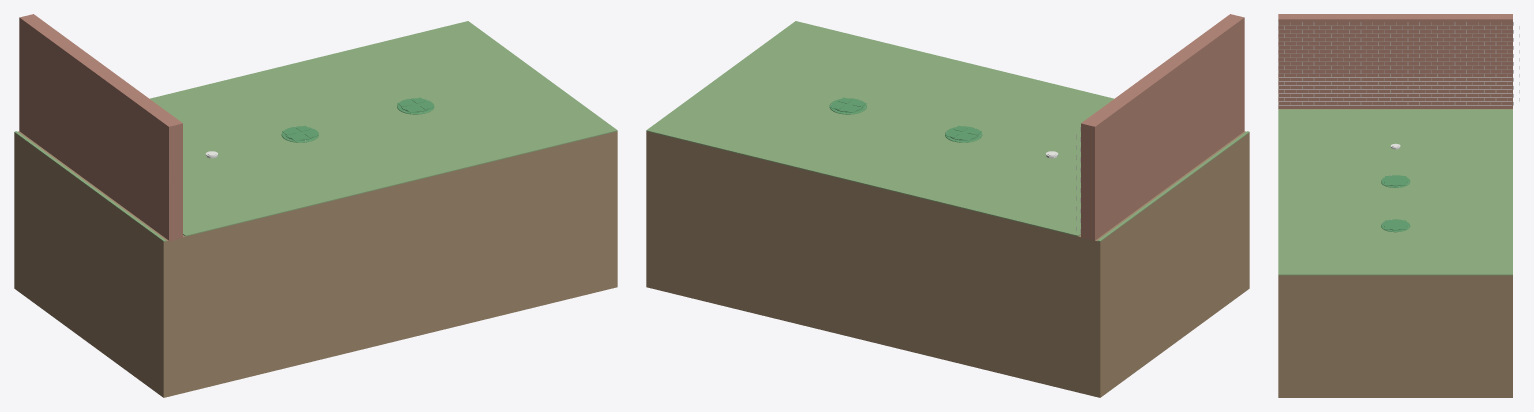
File: septic_tank_risers_slab.glb
3 renders of one model, left to right at view 1: azimuth 30°, elevation 25°; view 2: azimuth 150°, elevation 25°; view 3: azimuth 270°, elevation 25°, orthographic. The views are drawn at different scales.
Parts seen in each view (by area): view 1: soil, grass, house_wall, soil_section, grass_section; view 2: soil, grass, house_wall, soil_section, grass_section; view 3: grass, soil, house_wall, soil_section, grass_section, lid_outlet, lid_inlet.
Part boxes in pixels (box(x1,y1,x2,y2)): soil: box(14, 131, 617, 397); grass: box(14, 21, 617, 241); house_wall: box(19, 14, 182, 241); soil_section: box(14, 133, 93, 342); grass_section: box(16, 21, 538, 185); soil: box(646, 131, 1249, 397); grass: box(646, 21, 1249, 241); house_wall: box(1076, 14, 1244, 241); soil_section: box(1098, 186, 1174, 396); grass_section: box(648, 76, 1174, 240); grass: box(1278, 109, 1512, 275); soil: box(1278, 109, 1512, 397); house_wall: box(1278, 14, 1519, 108); soil_section: box(1395, 109, 1512, 397); grass_section: box(1395, 109, 1512, 275); lid_outlet: box(1381, 219, 1410, 232); lid_inlet: box(1381, 175, 1410, 187).
Bounding box in the file's own units: 7.01 × 3.98 × 4.11.
